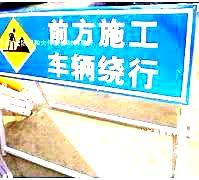sign: (1, 7, 192, 102)
